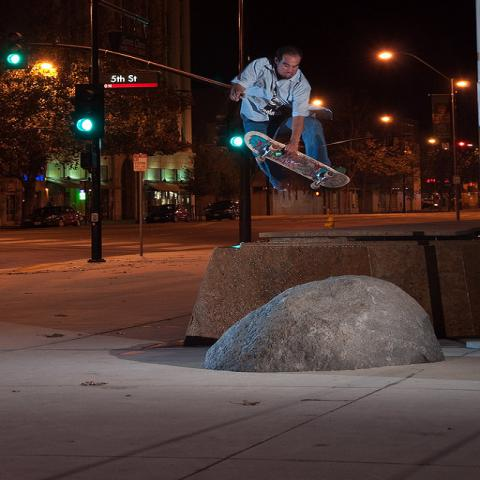car: (23, 204, 82, 228), (203, 199, 239, 222)
